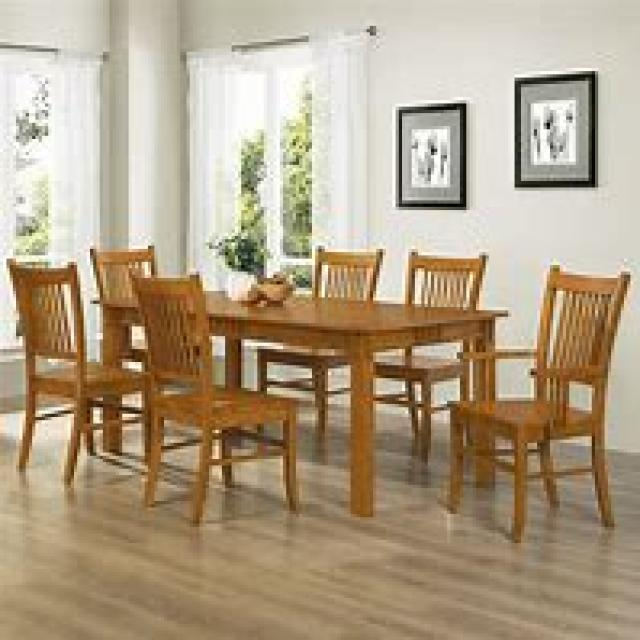chair: (441, 262, 630, 540), (126, 268, 299, 524), (3, 255, 151, 485), (370, 249, 486, 462), (254, 243, 383, 433)
table: (87, 288, 508, 514)
